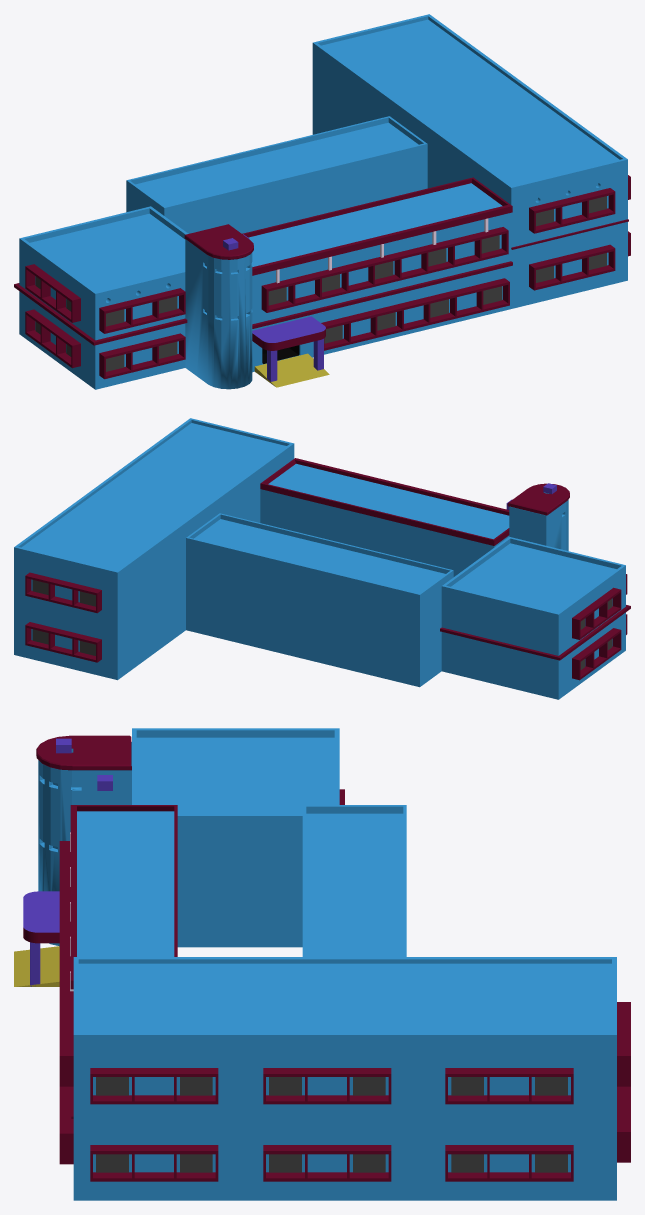
File: Ceramic.fbx
3 renders of one model, top to bottom at view 1: azimuth 30°, elevation 25°; view 2: azimuth 150°, elevation 25°; view 3: azimuth 270°, elevation 25°, orthographic. The views are drawn at different scales.
Visible parts, largest first — view 1: Plane.005; view 2: Plane.005; view 3: Plane.005.
Boxes of the visible parts, x1=… form: Plane.005: x1=14, y1=14, x2=630, y2=389; Plane.005: x1=14, y1=418, x2=630, y2=699; Plane.005: x1=14, y1=728, x2=630, y2=1200.
Size of the model in its own units: 4568 by 1153 by 3372.
